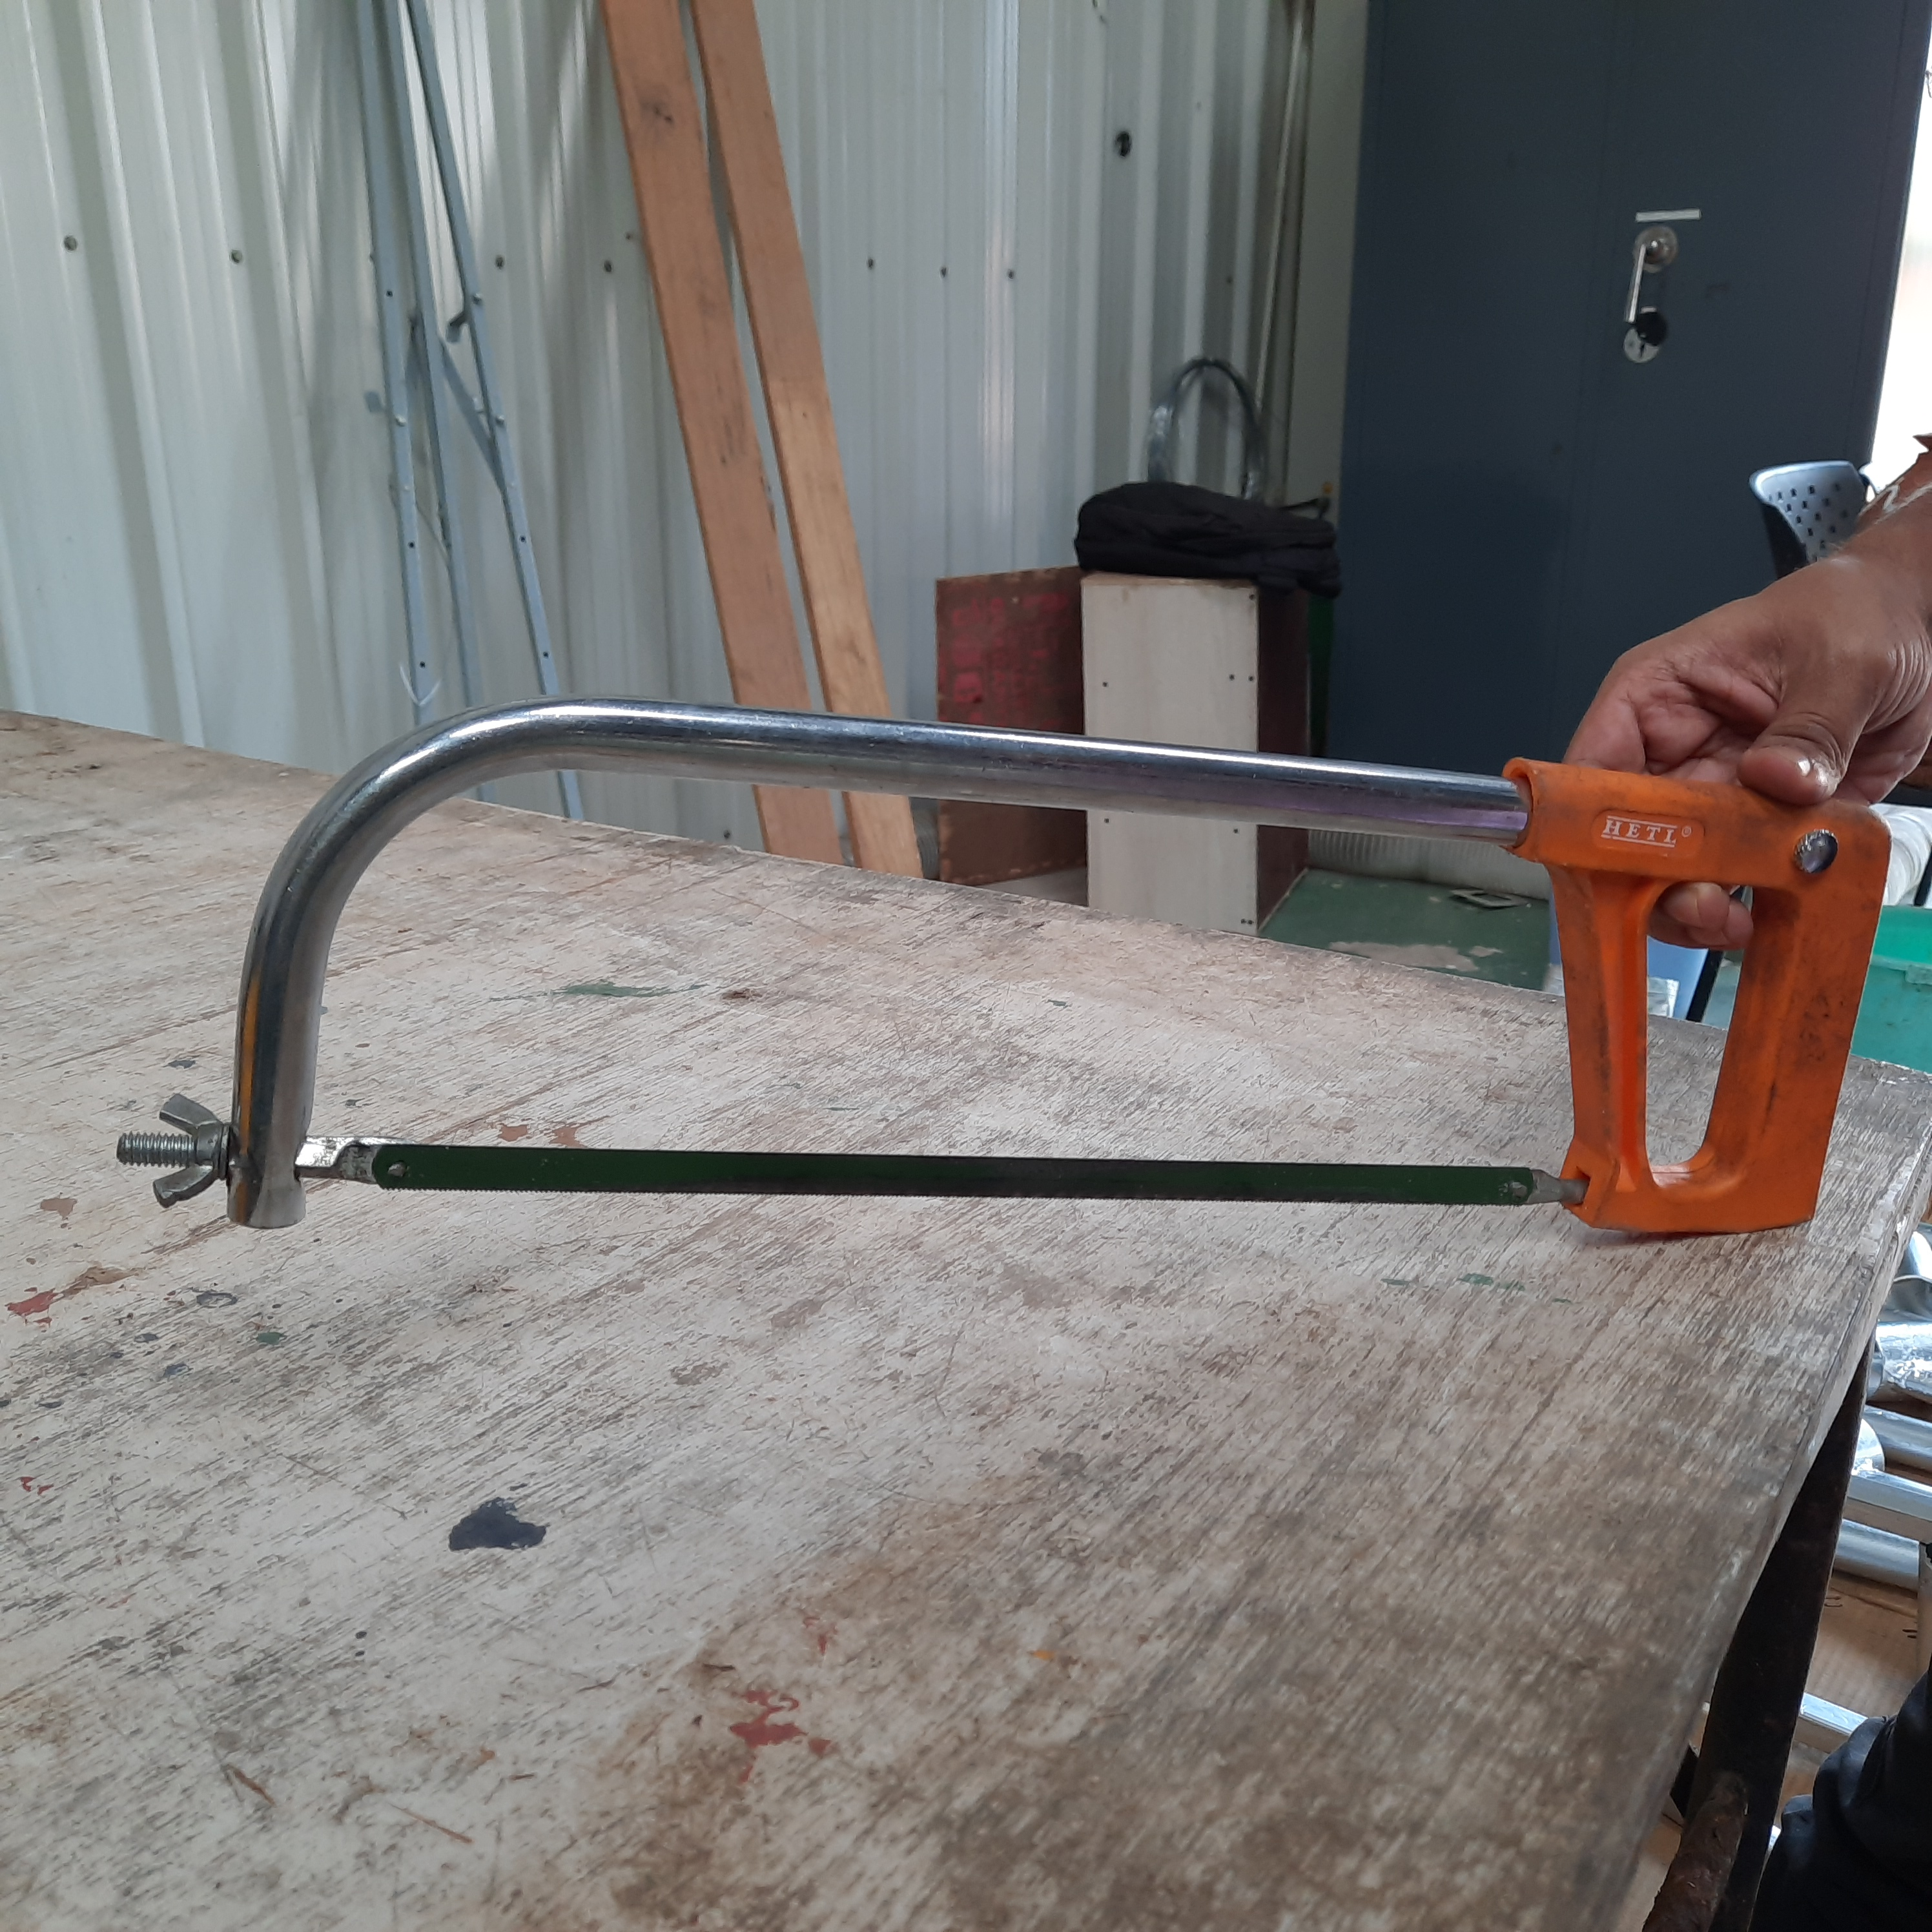Hexaframe: (53, 669, 1914, 1300)
